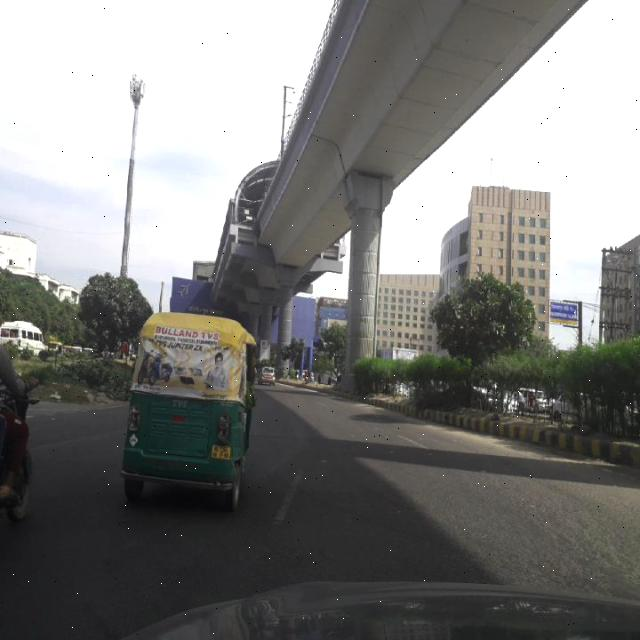D20: (304, 441, 639, 582)
D44: (276, 447, 306, 538)
